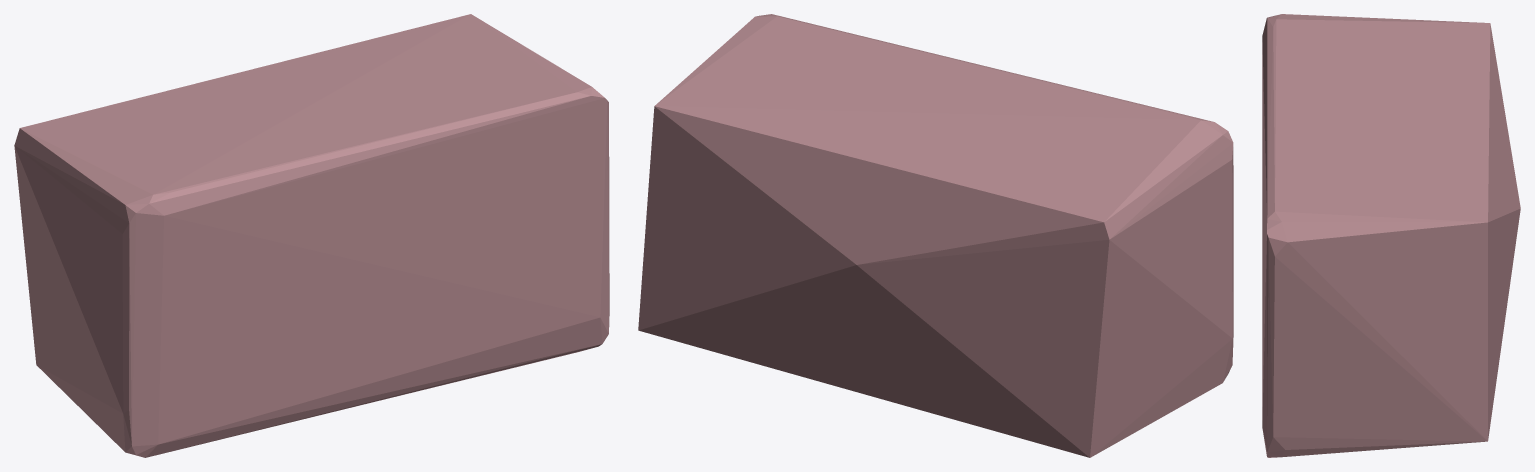
File: case_c02.glb
3 renders of one model, left to right at view 1: azimuth 30°, elevation 25°; view 2: azimuth 150°, elevation 25°; view 3: azimuth 270°, elevation 25°, orthographic. The views are drawn at different scales.
Visible parts, largest first — view 1: geometry_0; view 2: geometry_0; view 3: geometry_0.
Part boxes in pixels (bbox=[...]): geometry_0: bbox=[14, 14, 609, 457]; geometry_0: bbox=[638, 14, 1233, 457]; geometry_0: bbox=[1262, 14, 1520, 457].
Bounding box in the file's own units: 0.4798 × 0.2533 × 0.2378.
